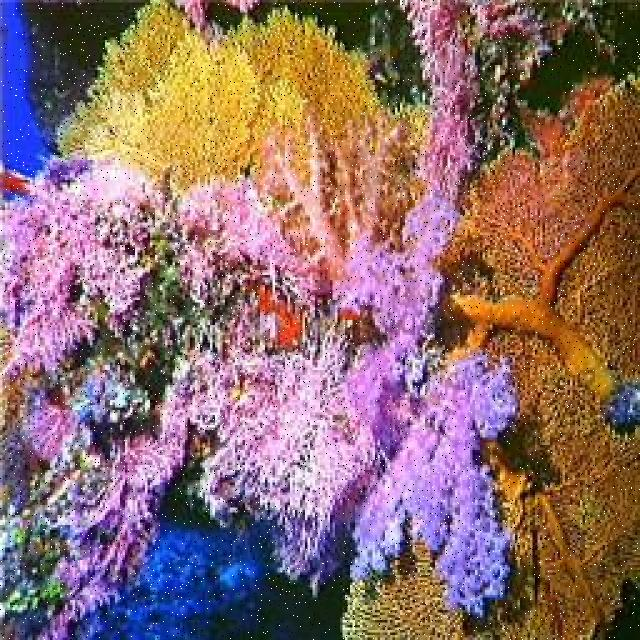reefs: (0, 0, 533, 638), (339, 72, 638, 638), (57, 2, 427, 224)
